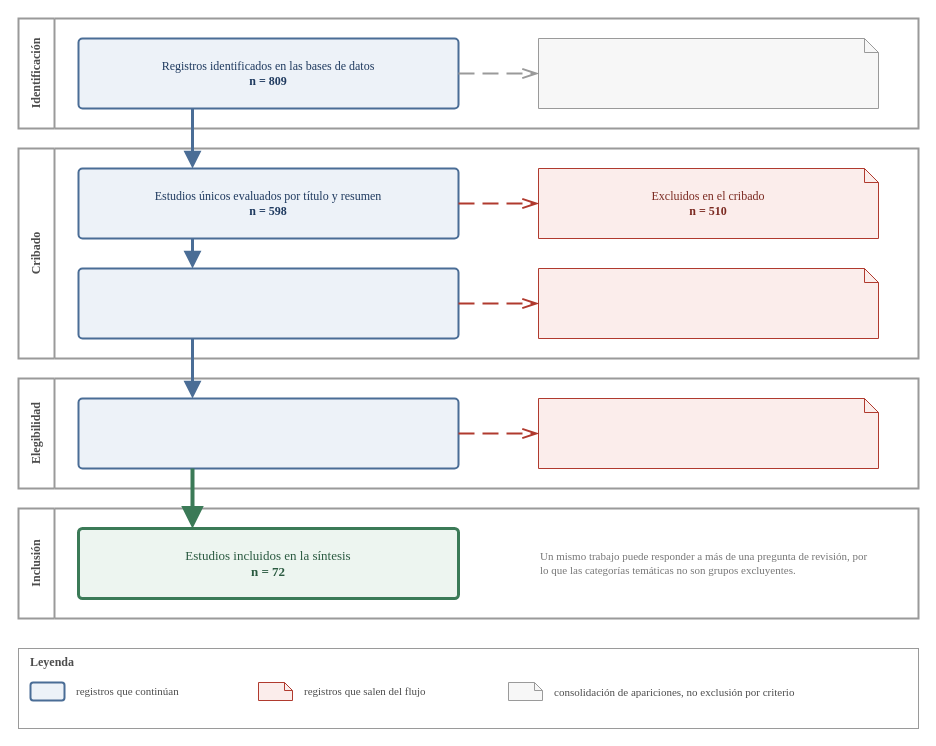
The diagram is 936 pixels wide and 746 high, and some of its shapes have lost their labels. Each missing label, with the centre of its shape:
"Apariciones duplicadas consolidadas n = 211" belongs at [708,73].
"Excluidos por falta de pertinencia n = 14" belongs at [708,433].
"No recuperados n = 2" belongs at [708,303].
"Registros buscados a texto completo n = 88" belongs at [268,303].
"Textos completos recuperados y evaluados n = 86" belongs at [268,433].
